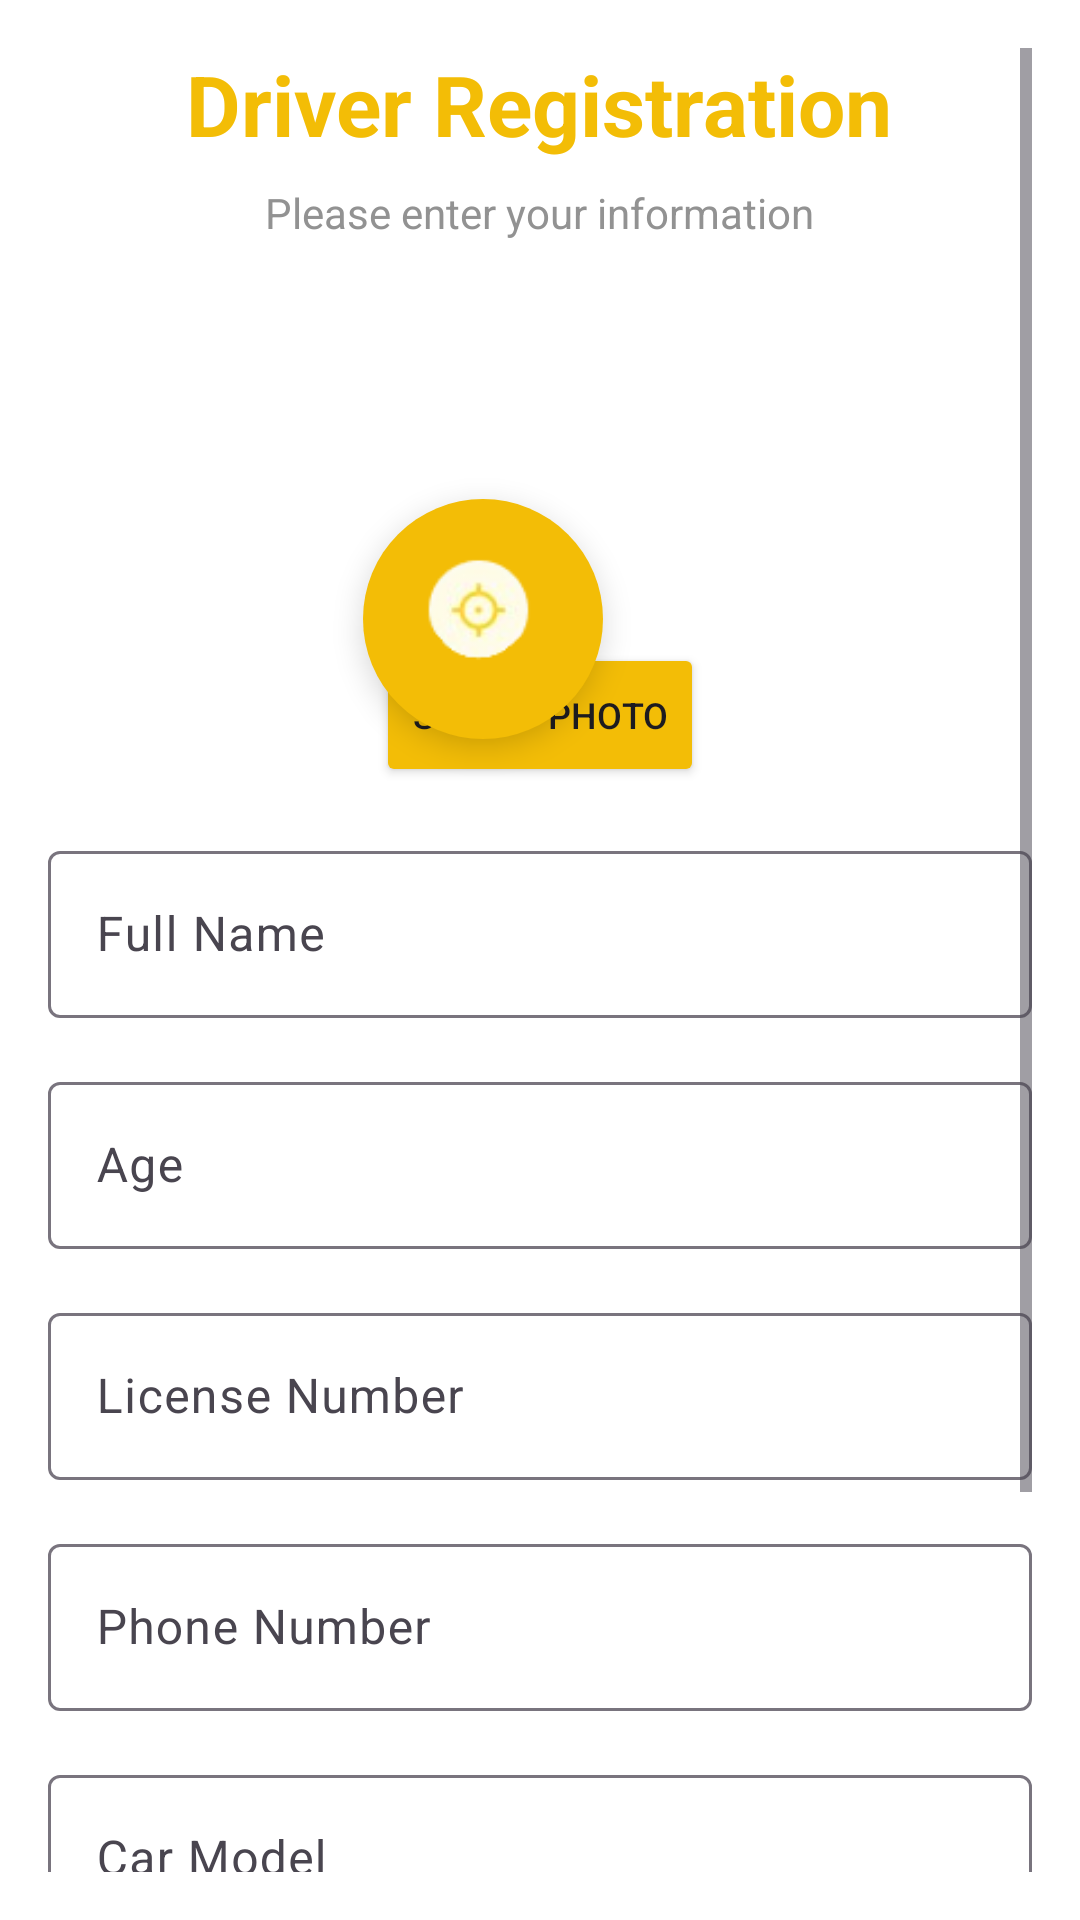

Where to tap for icons on this 1080w x 1920h app screen, as point (x, y):
My Location: point (483, 619)
